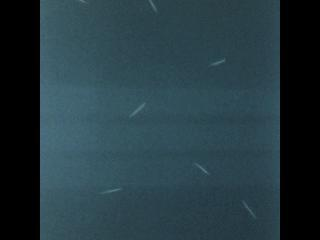scratch: (124, 92, 154, 121), (88, 181, 135, 197), (238, 197, 262, 222), (202, 53, 230, 73), (190, 158, 213, 182), (143, 0, 166, 15), (75, 1, 91, 10)
